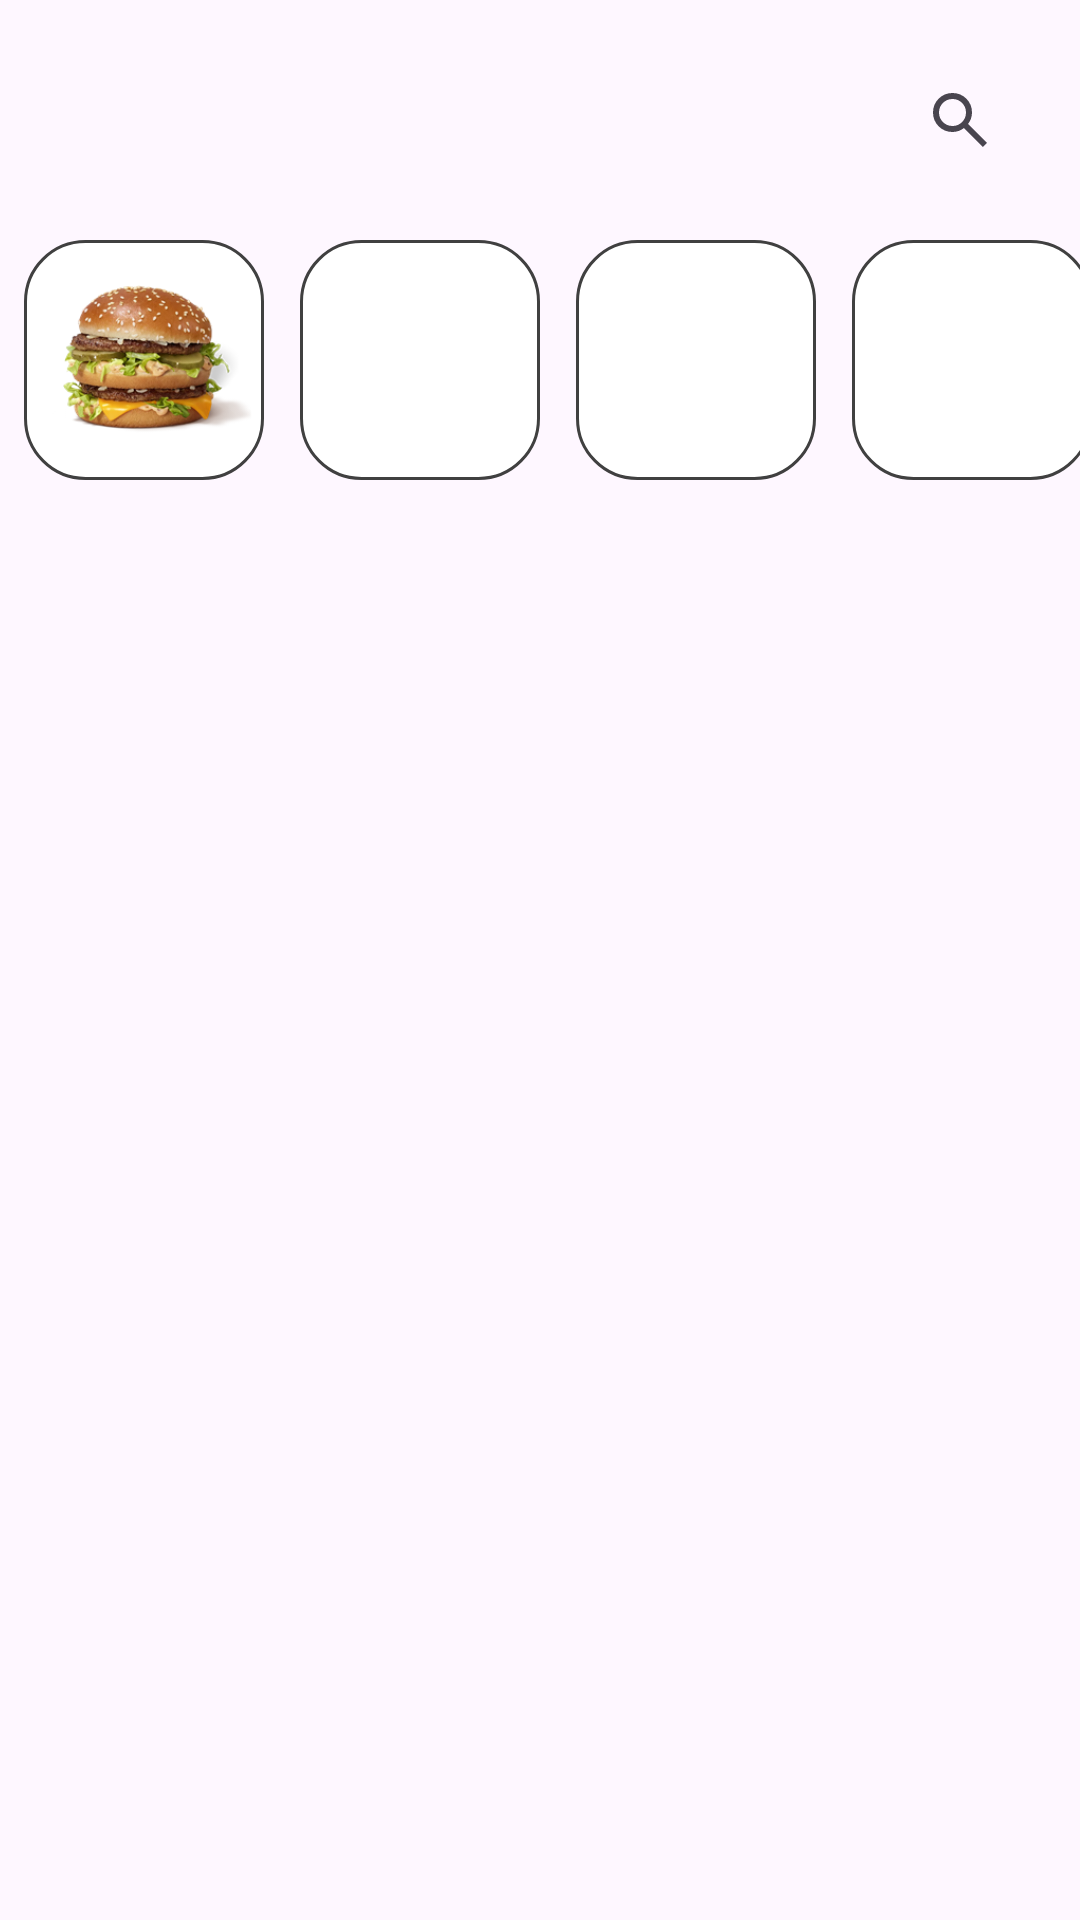

Point at icon controls on the screen. Image size 1080px×1920px, points as point (x, y).
mac: point (144, 360)
search: point (960, 120)
